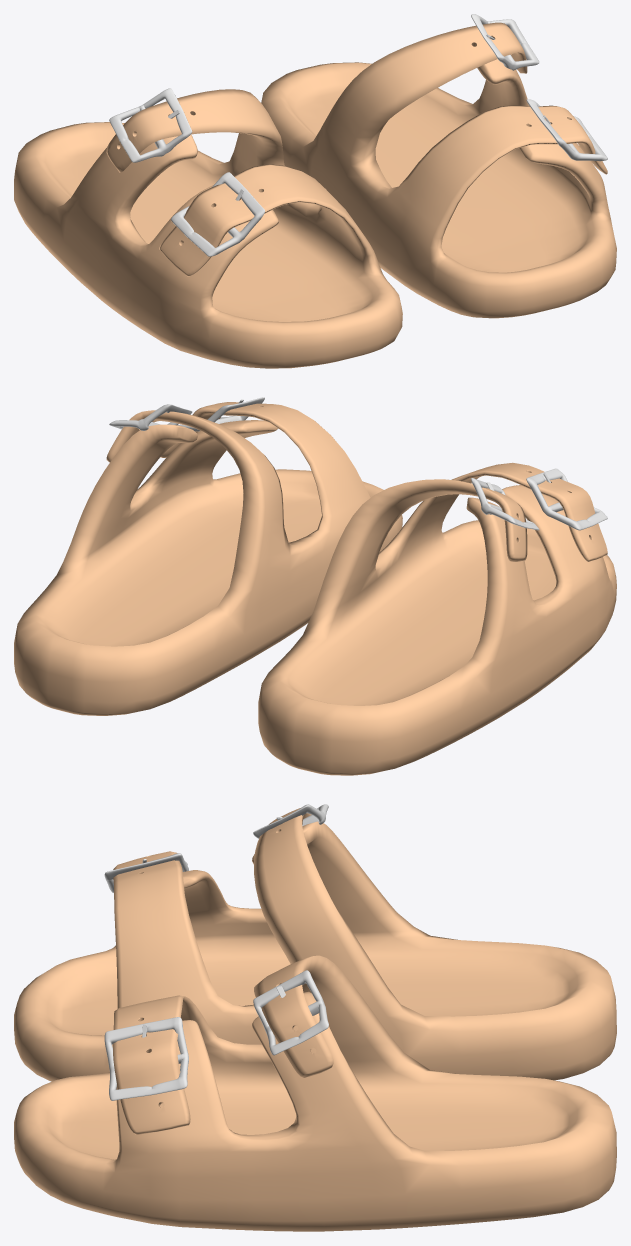
Rendered from lebbirkenstok.fbx.
The picture shows the model from 3 angles, top to bottom: view 1: azimuth 30°, elevation 25°; view 2: azimuth 150°, elevation 25°; view 3: azimuth 270°, elevation 25°; orthographic projection. The views are drawn at different scales.
Parts seen in each view (by area): view 1: Cube.006; view 2: Cube.006; view 3: Cube.006.
Boxes of the visible parts, x1,y1,x2,y2 form: Cube.006: (14,14,616,368); Cube.006: (14,397,616,775); Cube.006: (14,804,616,1231).
Bounding box in the file's own units: 27.76 × 12.64 × 29.36.
